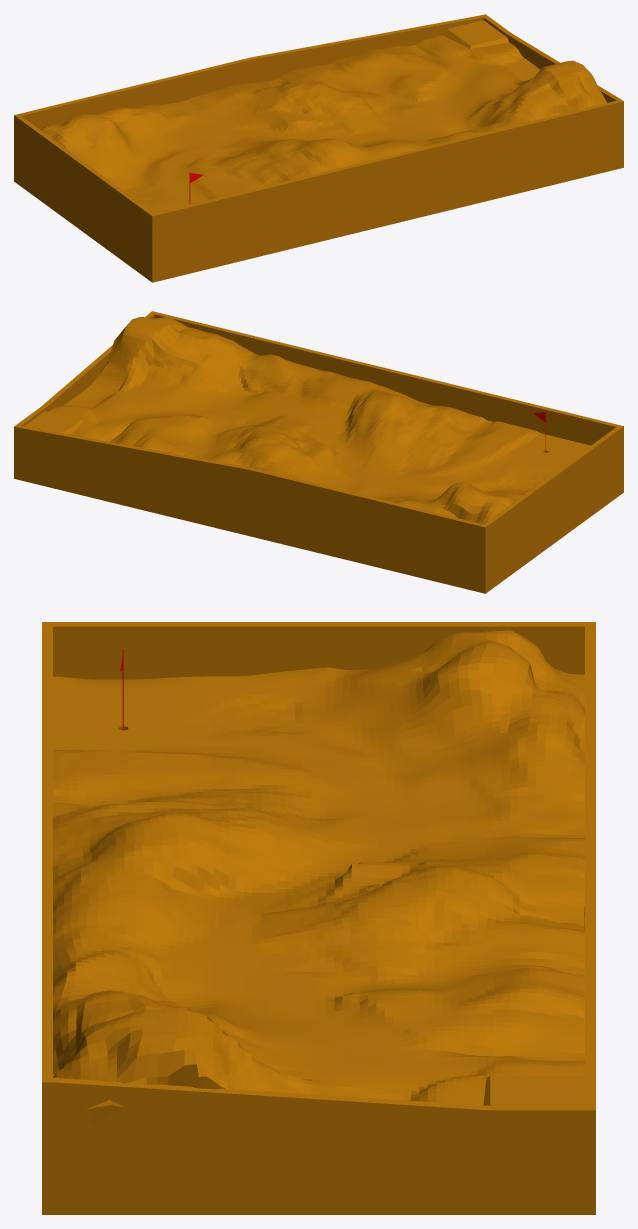
File: level_13.glb
The picture shows the model from 3 angles, top to bottom: view 1: azimuth 30°, elevation 25°; view 2: azimuth 150°, elevation 25°; view 3: azimuth 270°, elevation 25°; orthographic projection. The views are drawn at different scales.
Visible parts, largest first — view 1: green; view 2: green; view 3: green.
Boxes of the visible parts, x1=… form: green: x1=14, y1=14, x2=623, y2=282; green: x1=14, y1=311, x2=623, y2=593; green: x1=42, y1=622, x2=595, y2=1214.
Size of the model in its own units: 10.21 by 1.71 by 5.17.
